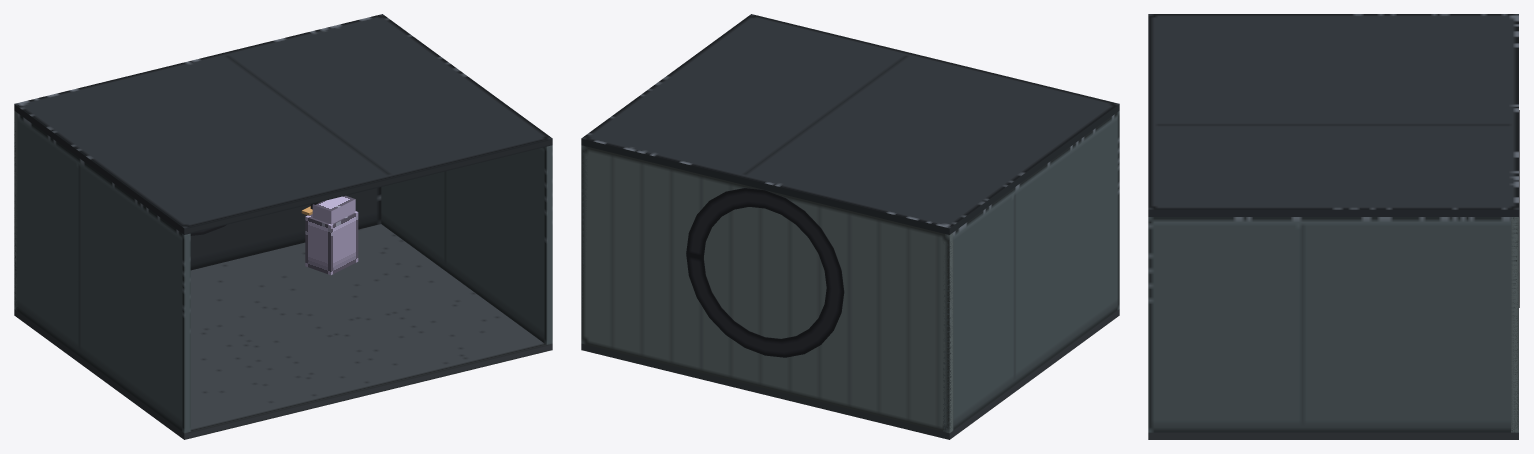
The model's file is MonosRoom.obj.
3 renders of one model, left to right at view 1: azimuth 30°, elevation 25°; view 2: azimuth 150°, elevation 25°; view 3: azimuth 270°, elevation 25°, orthographic. The views are drawn at different scales.
Parts seen in each view (by area): view 1: MonosRoomShell, MonosConsole; view 2: MonosRoomShell, MonosPortal; view 3: MonosRoomShell.
Boxes of the visible parts, x1,y1,x2,y2 form: MonosRoomShell: [14, 14, 552, 439]; MonosConsole: [301, 195, 358, 275]; MonosRoomShell: [581, 14, 1119, 439]; MonosPortal: [686, 188, 844, 357]; MonosRoomShell: [1148, 14, 1518, 439].
Size of the model in its own units: 7 by 3.84 by 5.61.
Materials: 4 (4 with a texture image).
